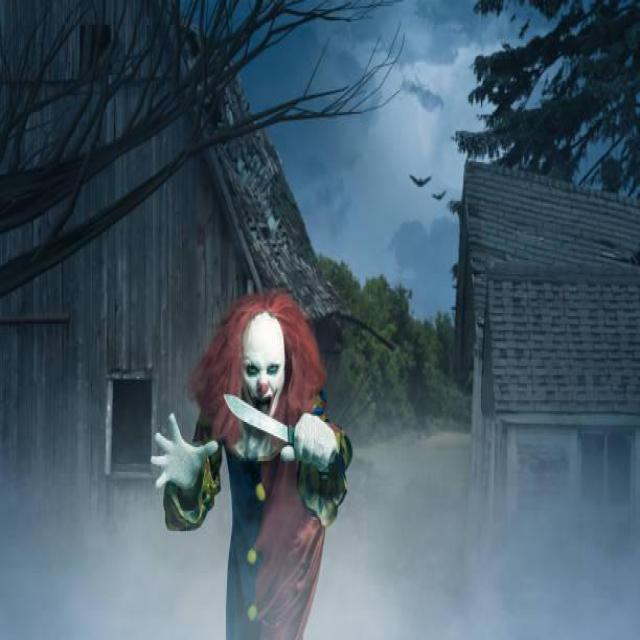faca: (220, 380, 348, 483)
